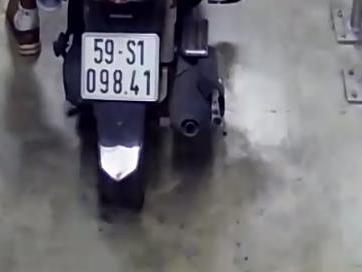num_plate: (79, 29, 162, 103)
